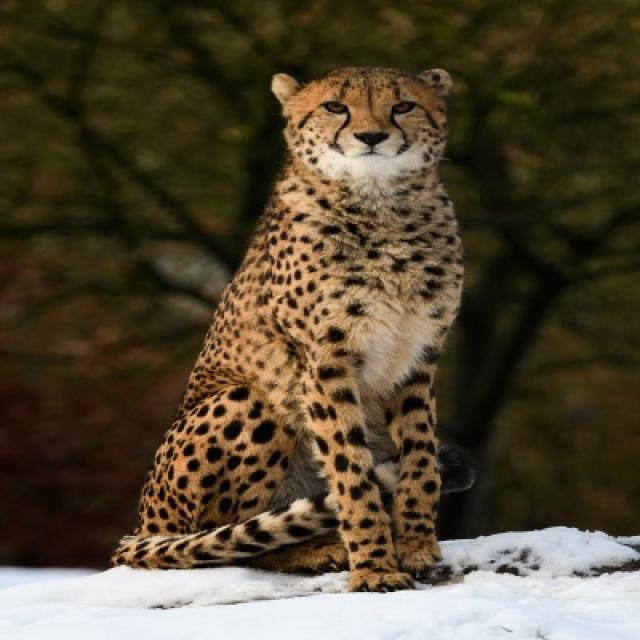Cheetah: (115, 63, 462, 586)
